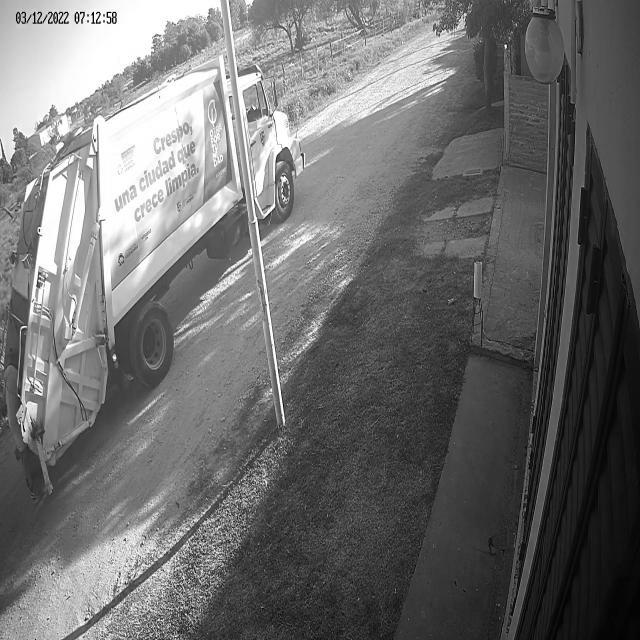Garbage Truck: (3, 57, 251, 496), (238, 64, 298, 222)
